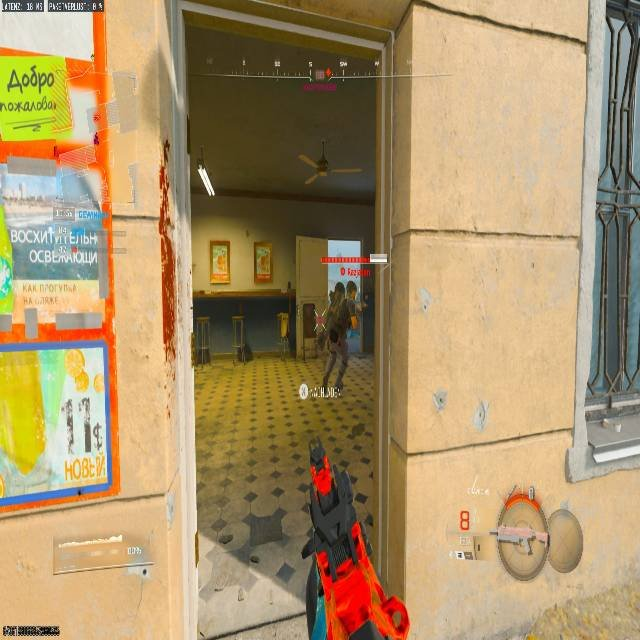head: (347, 281, 357, 298), (334, 282, 345, 292)
player: (321, 281, 365, 394)
